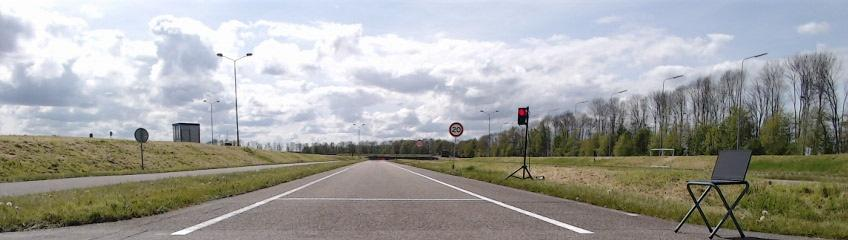Speed-limit-10km-h-: (416, 140, 423, 148)
Speed-limit-20km-h-: (449, 122, 464, 137)
TrafficLight-red: (517, 108, 528, 125)
